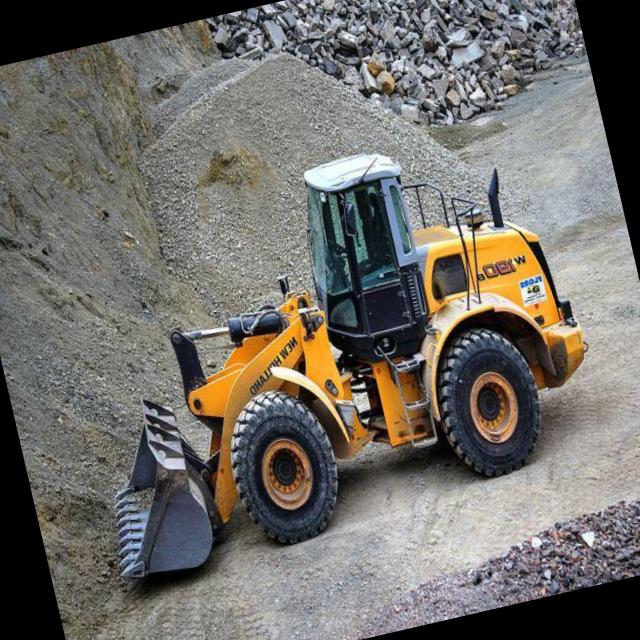pala cargadora: (27, 108, 619, 601)
